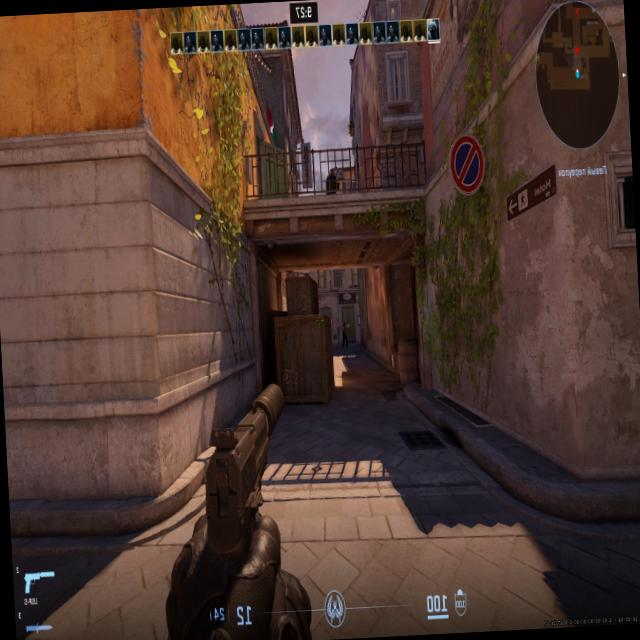T: (342, 322, 348, 349)
T_heat: (344, 322, 344, 329)
